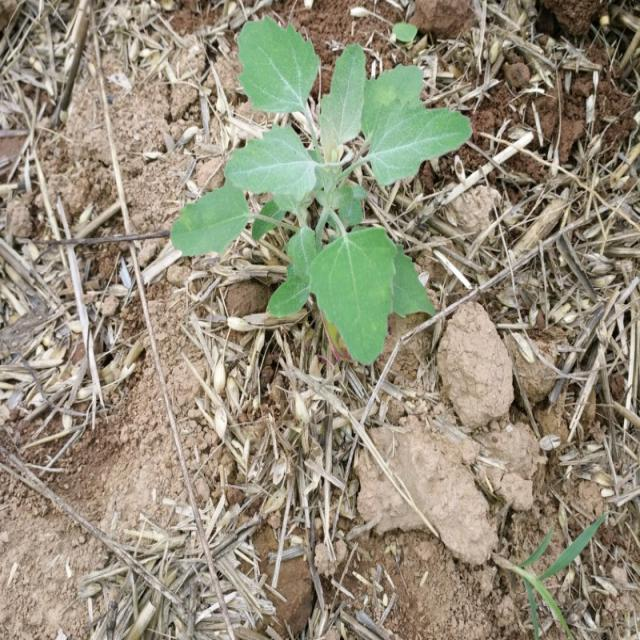ca: (236, 16, 472, 368)
